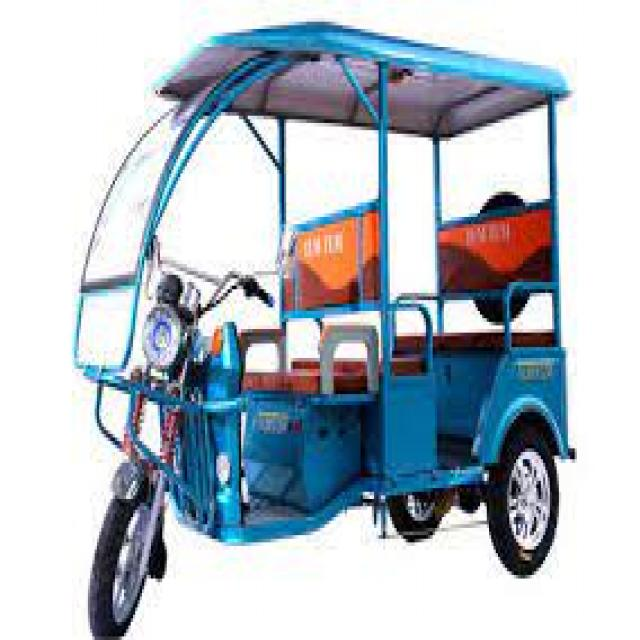Toto: (65, 16, 586, 630)
